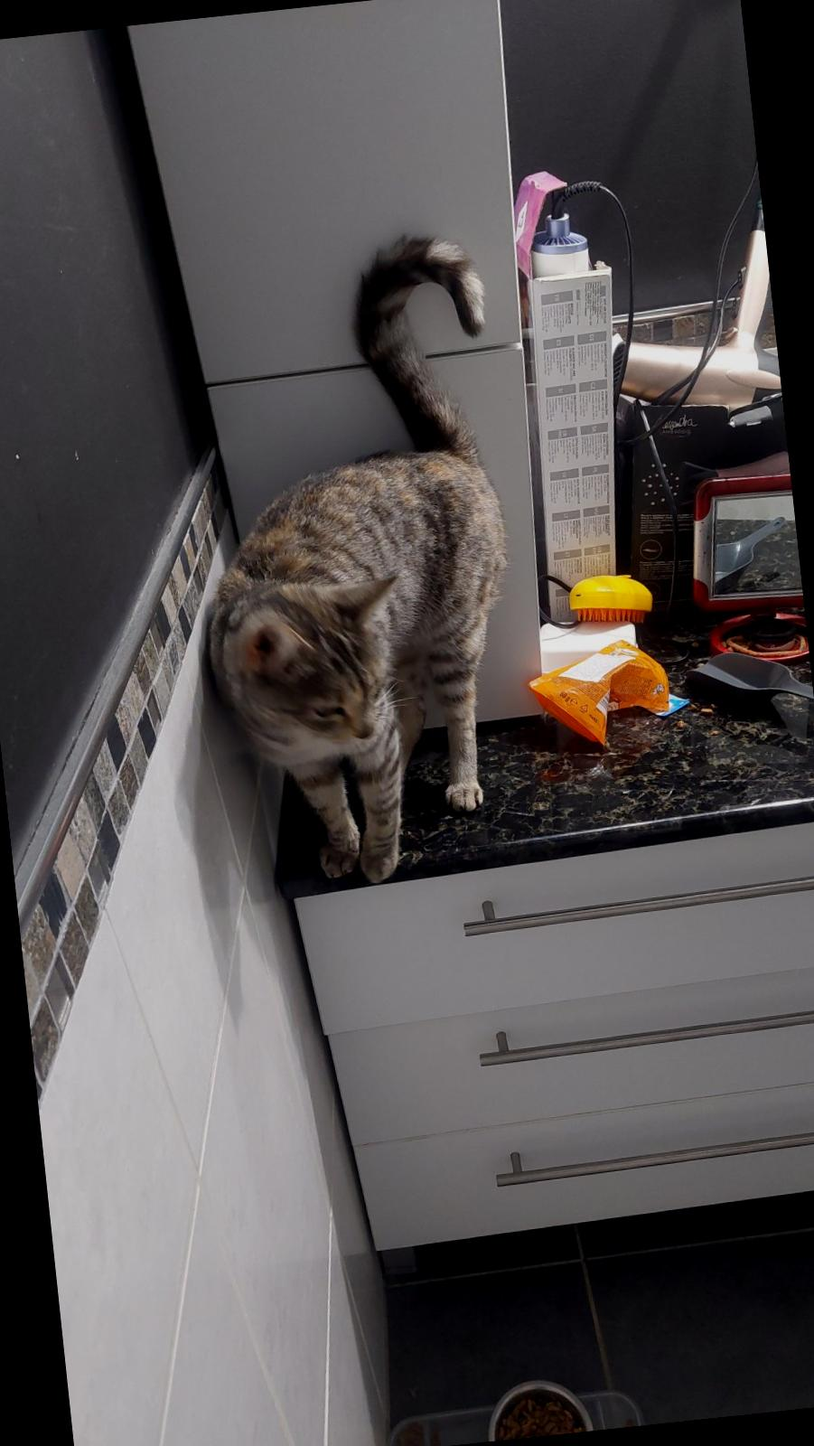macka: (166, 235, 547, 899)
